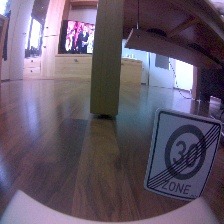dreisiger_zone_ende: (142, 108, 222, 203)
